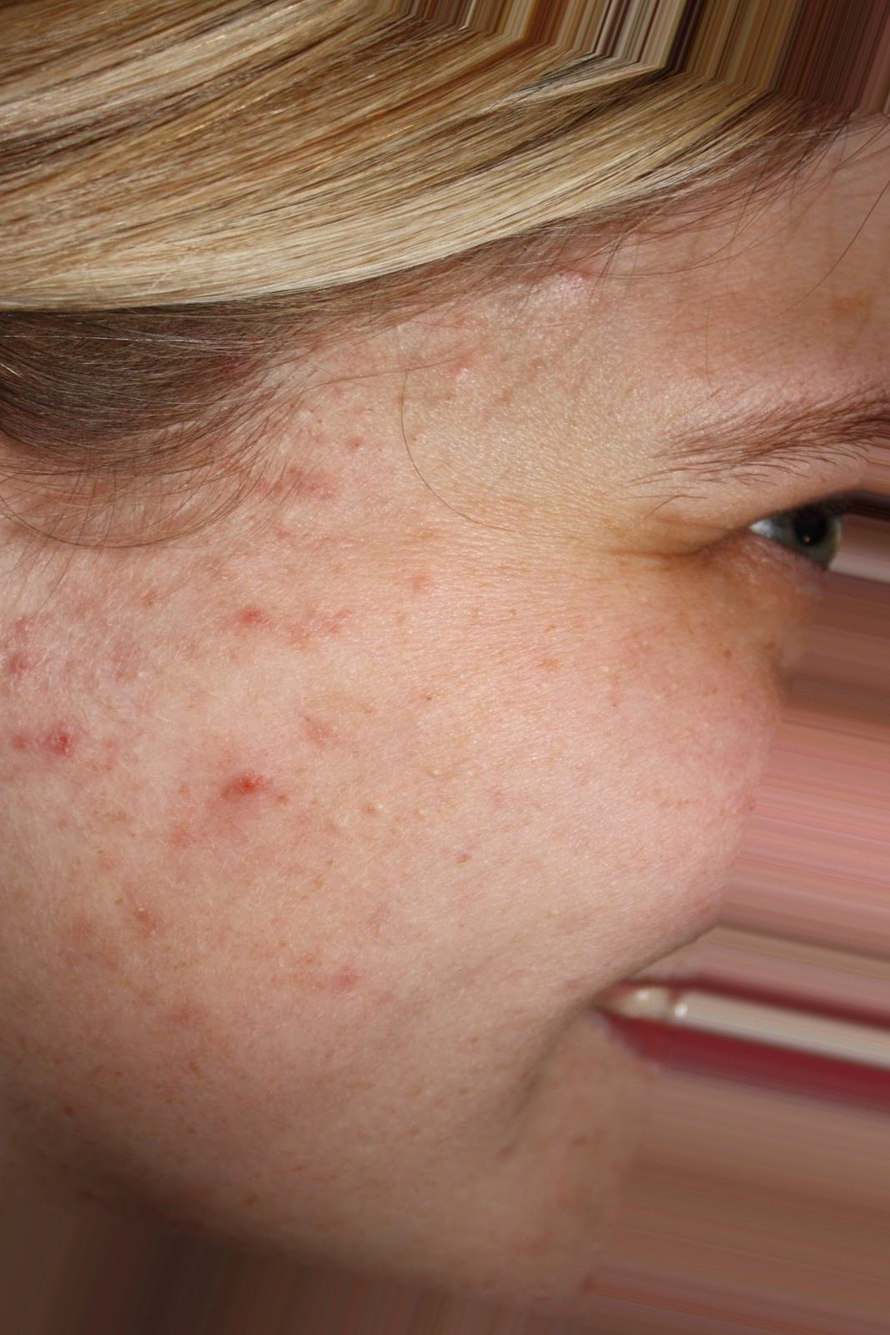Acne: (53, 429, 537, 1060)
